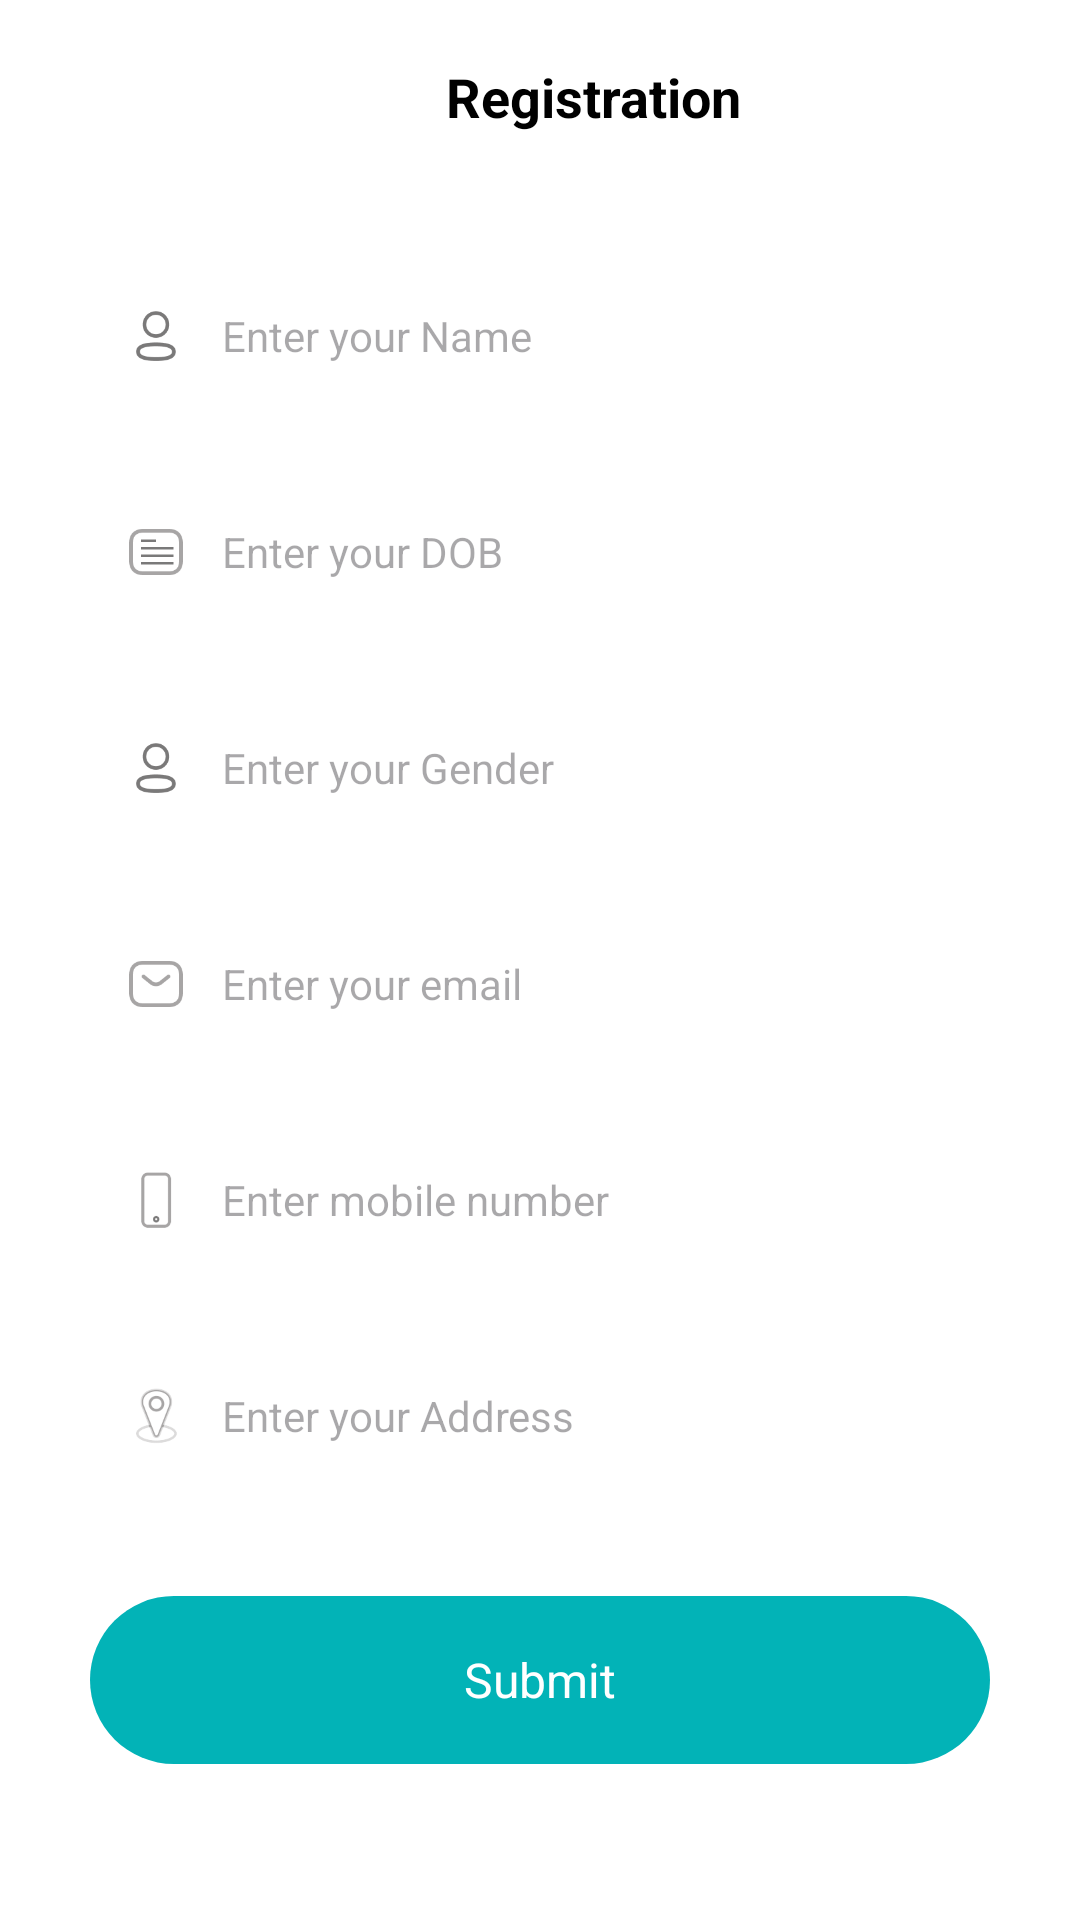

Icon click points for this 1080 × 1920 phone screenshot, format (x,y):
doc: (156,552)
location: (156,1416)
profile is: (156,336), (156,768)
